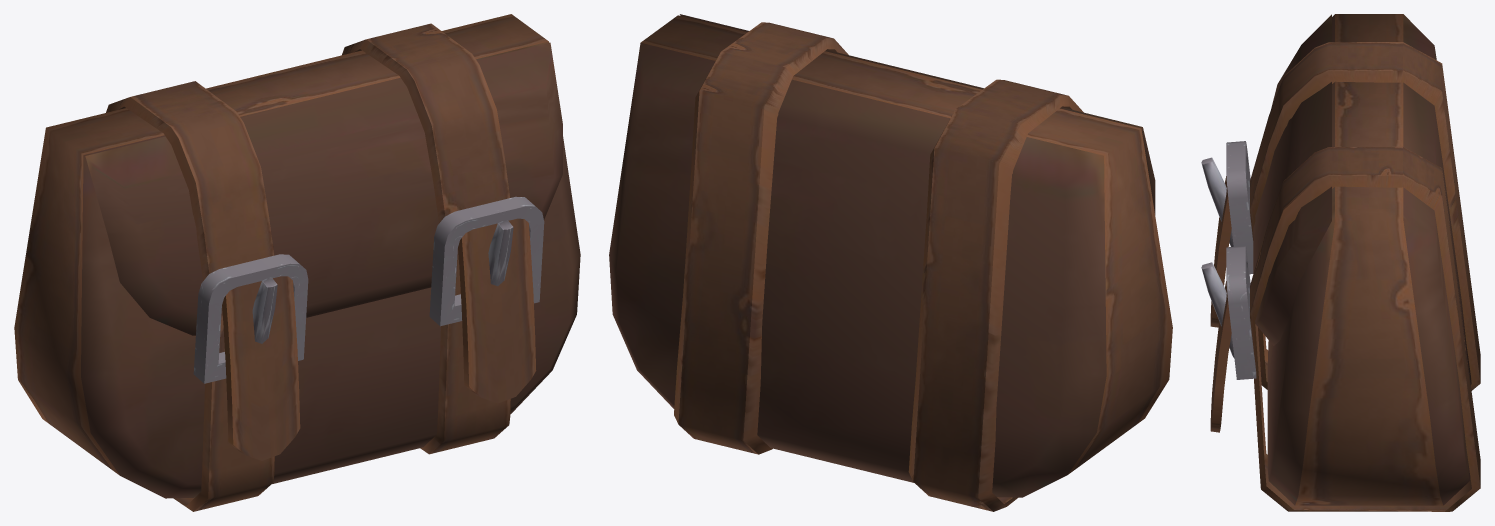
File: p_Pouch_Large.glb
The picture shows the model from 3 angles, left to right: view 1: azimuth 30°, elevation 25°; view 2: azimuth 150°, elevation 25°; view 3: azimuth 270°, elevation 25°; orthographic projection. The views are drawn at different scales.
Visible parts, largest first — view 1: Pouch_Large; view 2: Pouch_Large; view 3: Pouch_Large.
Part boxes in pixels (bbox=[...]): Pouch_Large: bbox=[14, 14, 580, 511]; Pouch_Large: bbox=[609, 14, 1172, 511]; Pouch_Large: bbox=[1201, 14, 1480, 511].
Bounding box in the file's own units: 0.2255 × 0.1591 × 0.1198.
2 materials, 2 textured.
